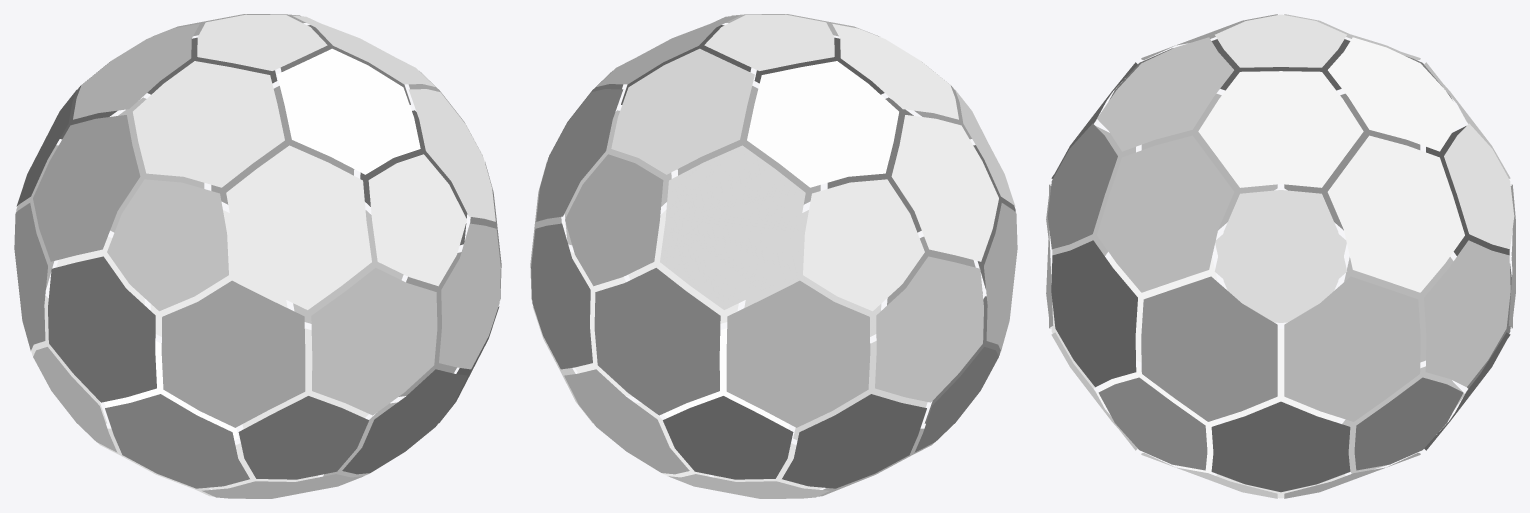
The model's file is force-field.fbx.
3 renders of one model, left to right at view 1: azimuth 30°, elevation 25°; view 2: azimuth 150°, elevation 25°; view 3: azimuth 270°, elevation 25°, orthographic.
Visible parts, largest first — view 1: Icosphere; view 2: Icosphere; view 3: Icosphere.
Part boxes in pixels (x1=…): Icosphere: x1=14, y1=14, x2=501, y2=498; Icosphere: x1=530, y1=14, x2=1017, y2=498; Icosphere: x1=1046, y1=14, x2=1515, y2=498.
Size of the model in its own units: 188 by 182 by 184.
